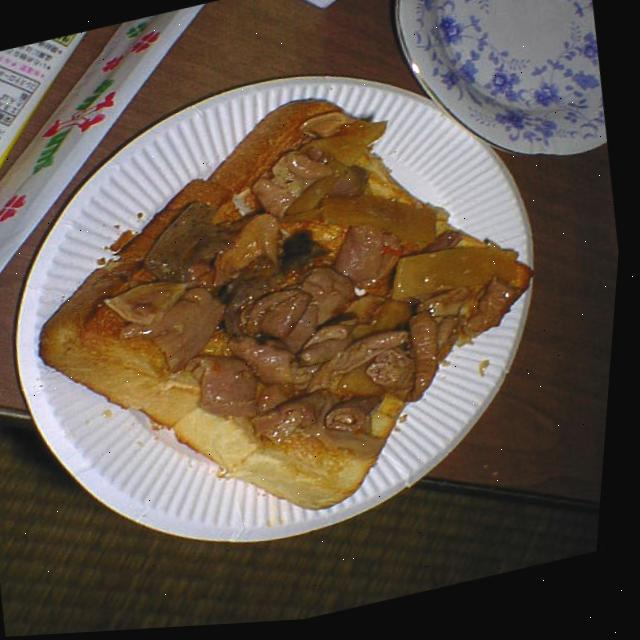面包点心: (0, 39, 571, 598)
